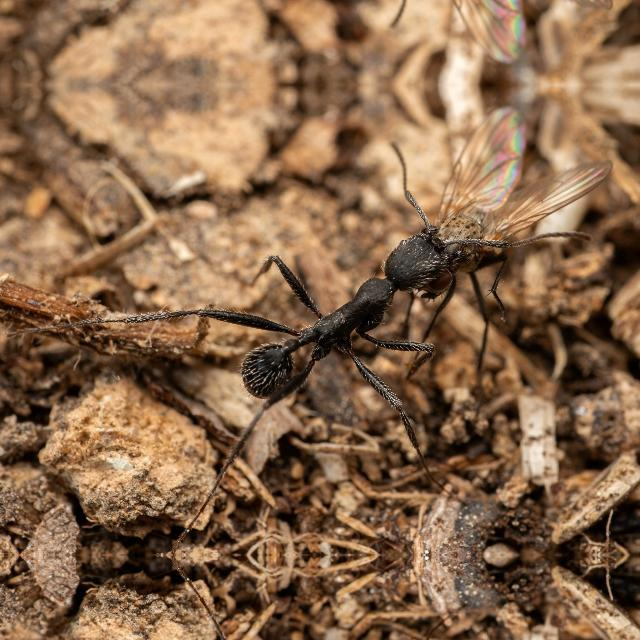Apheanogaster: (201, 195, 519, 427)
